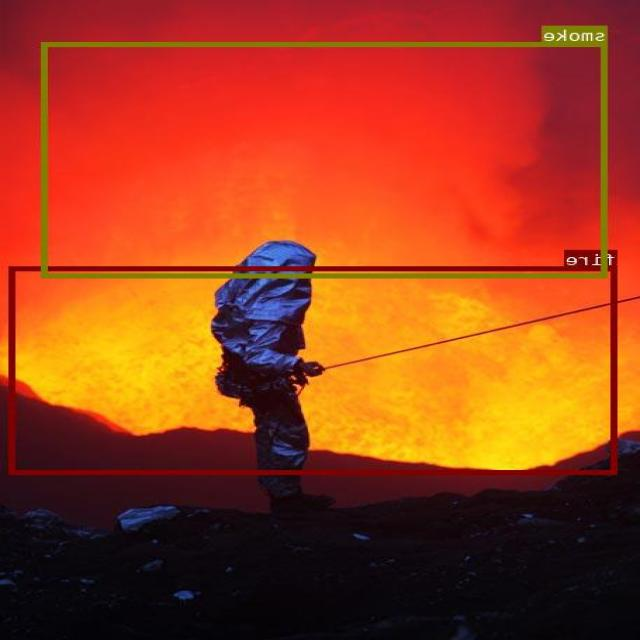fire: (11, 266, 618, 474)
smoke: (43, 41, 609, 277)
